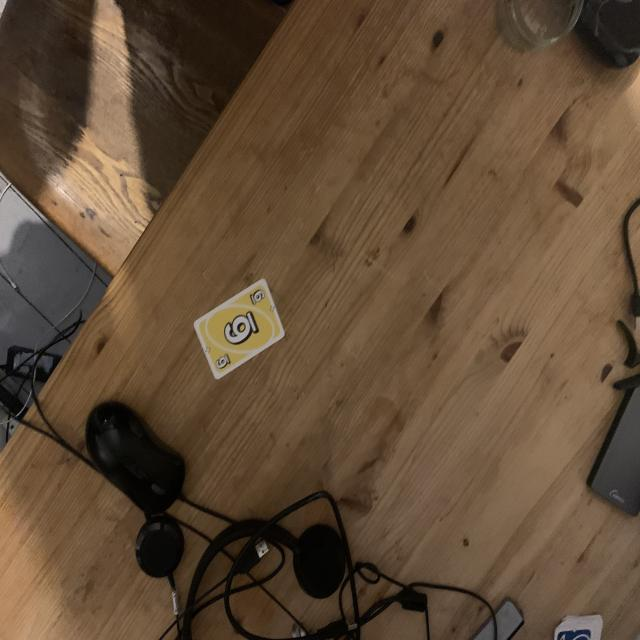lyellow-6: (248, 289, 267, 308)
